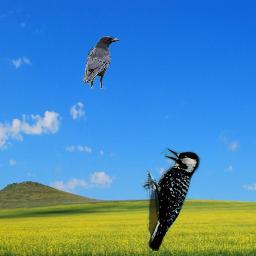Crow: (82, 36, 119, 89)
Woodpecker: (141, 147, 202, 251)
